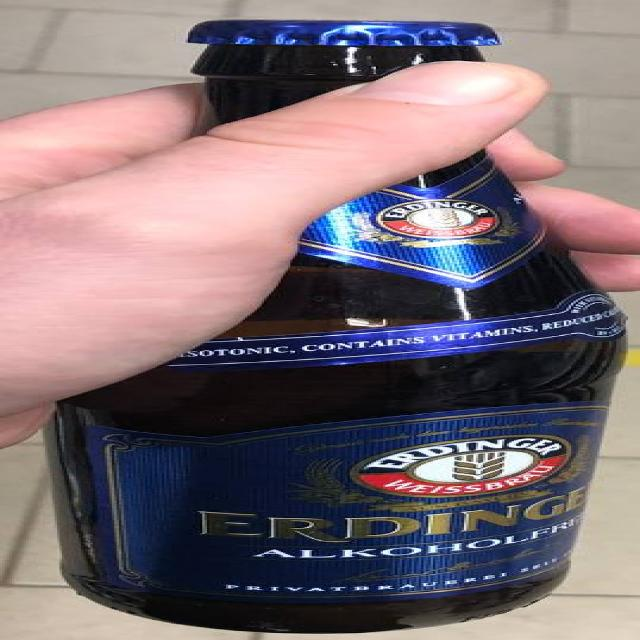Erdinger Alkoholfrei: (2, 0, 640, 640)
